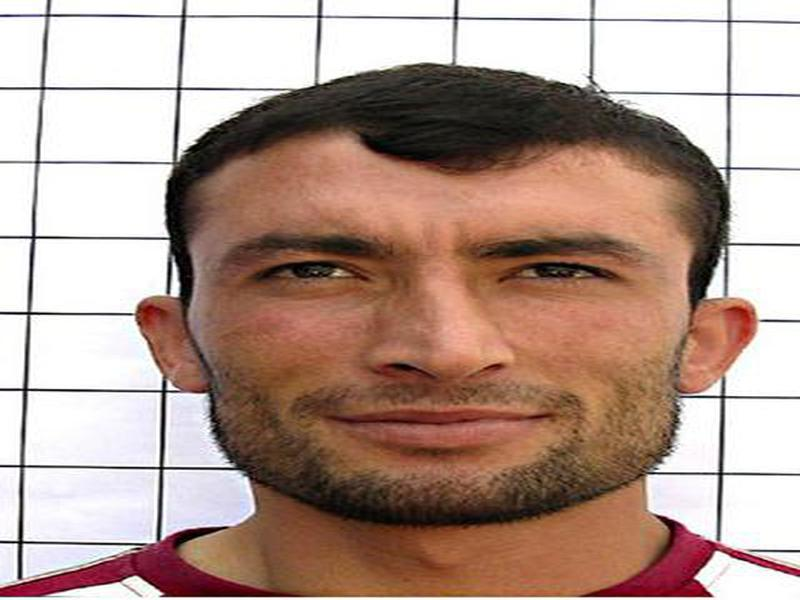without_mask: (181, 174, 690, 529)
